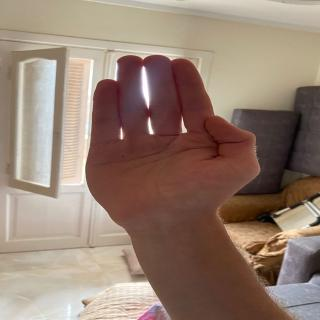SEEN: (71, 48, 267, 220)
